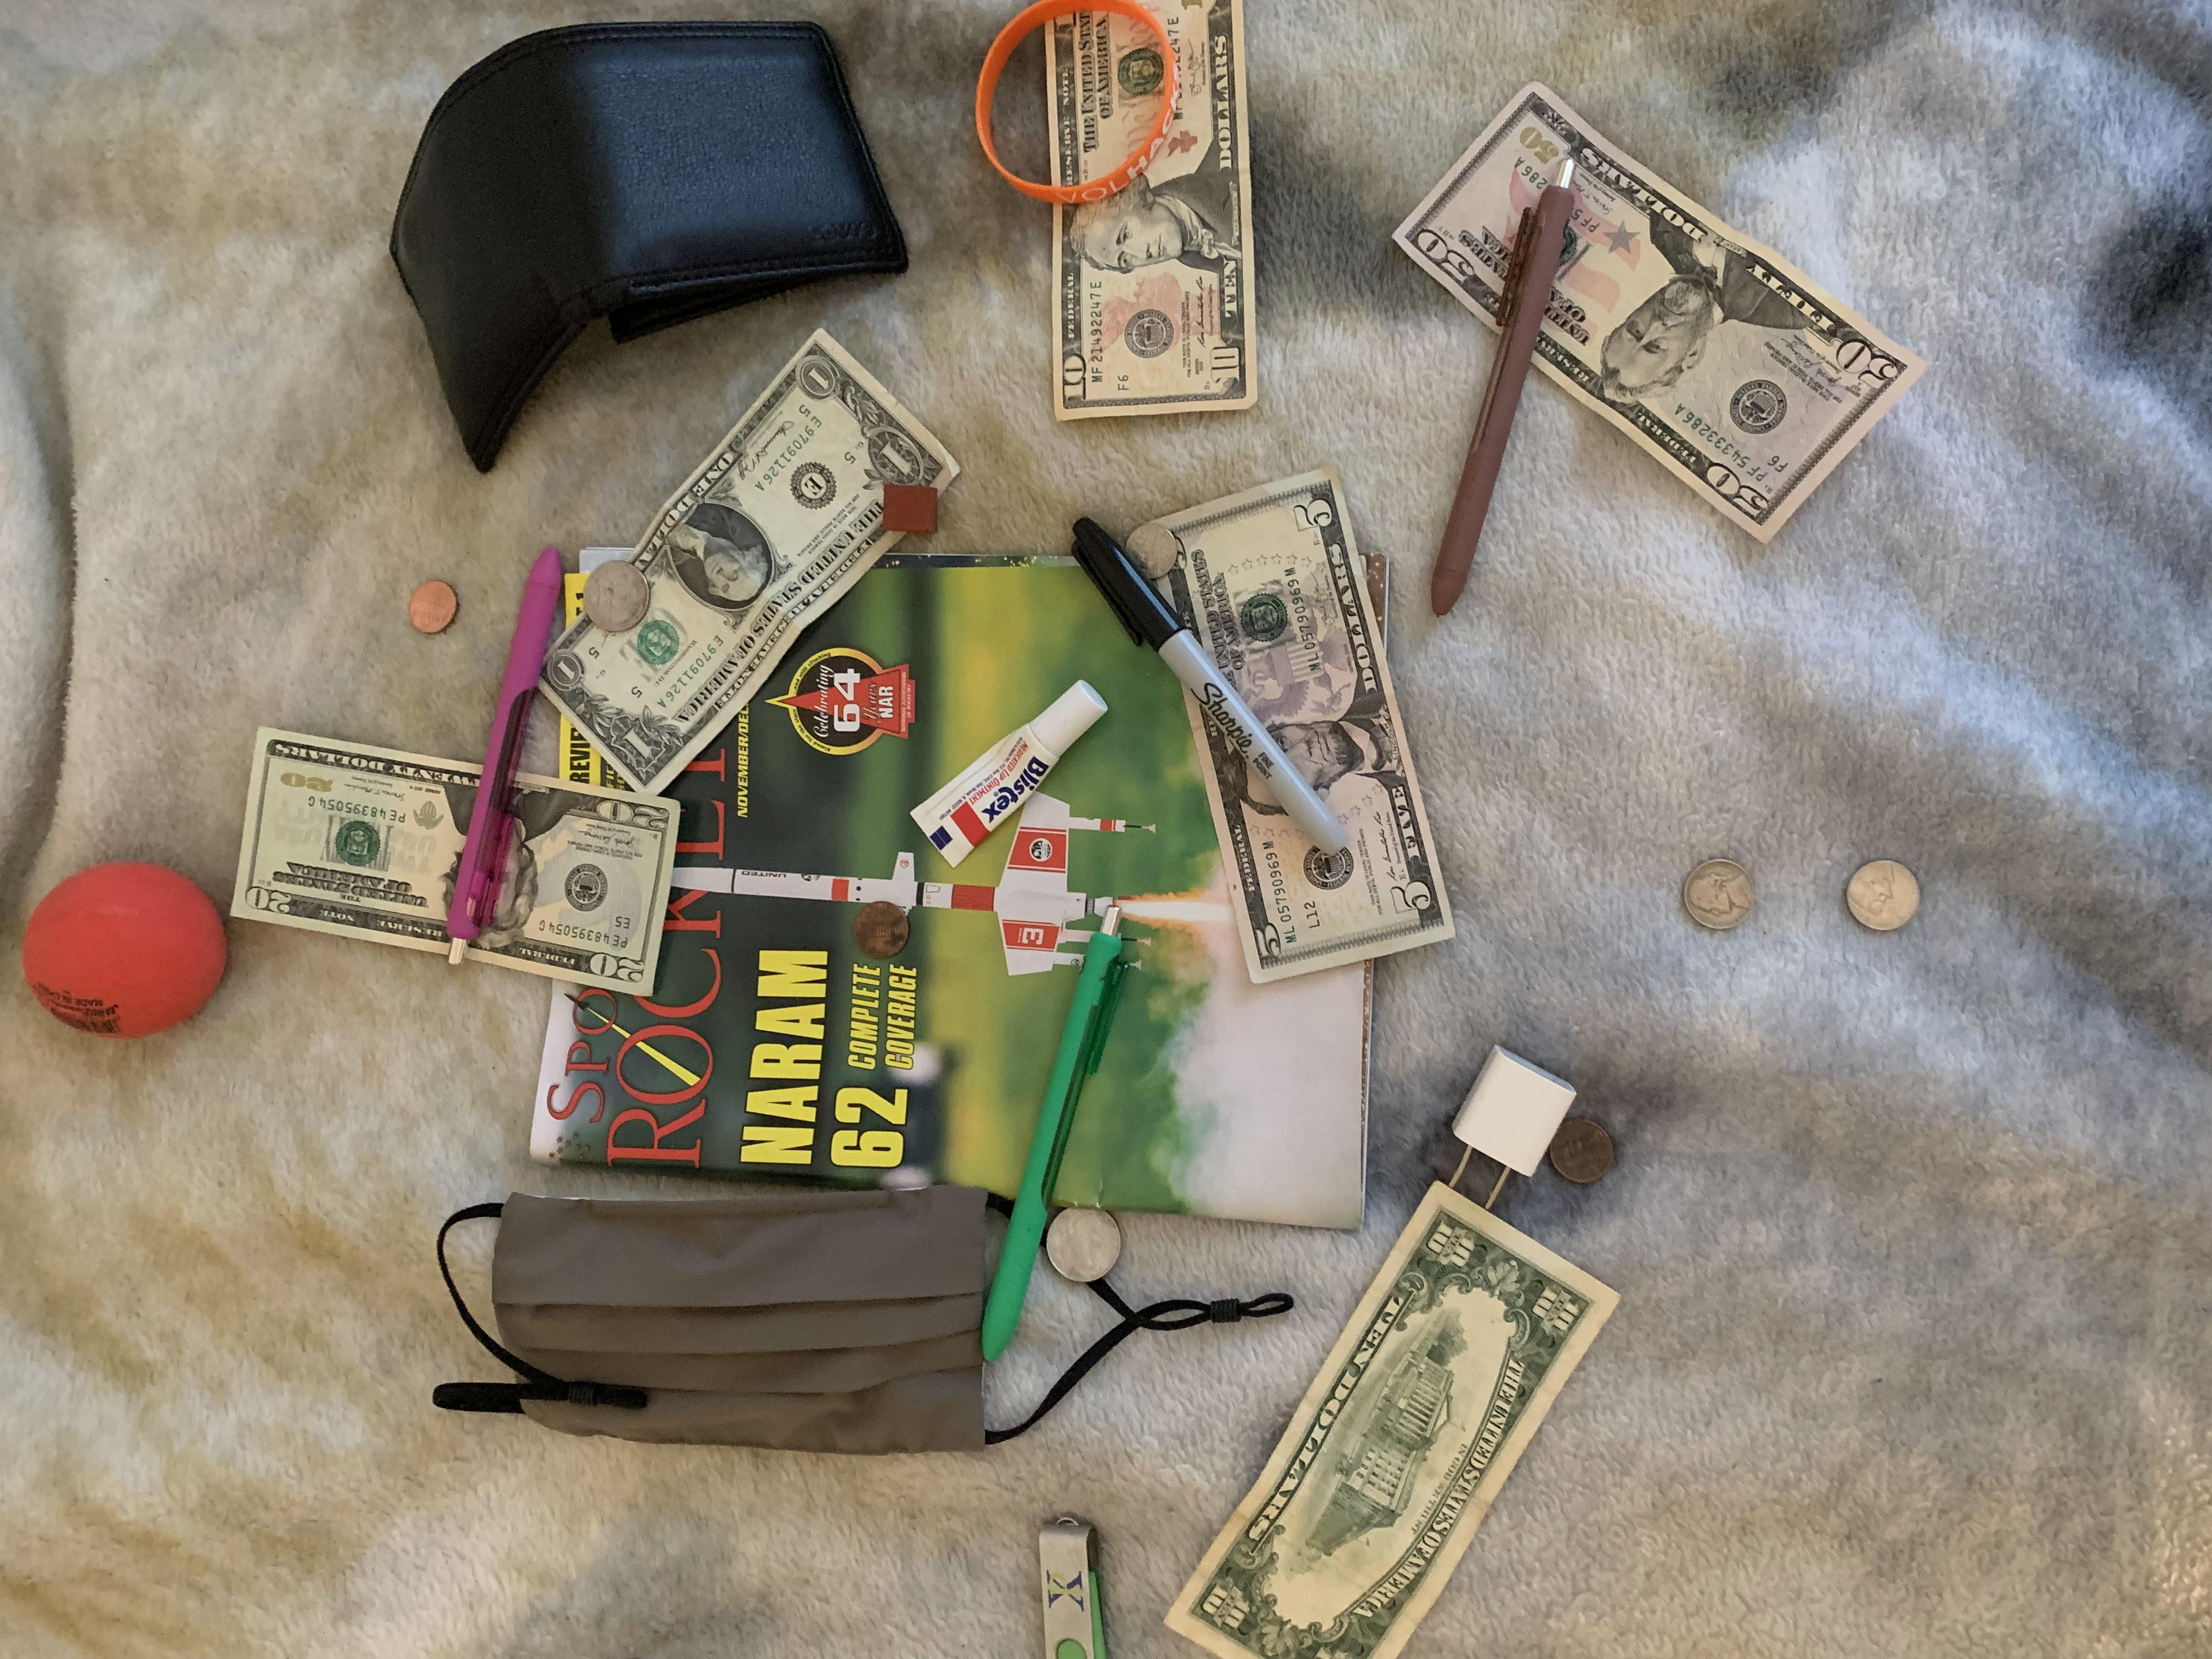Dime: (1122, 521, 1183, 580)
FiftyBill: (1393, 75, 1944, 547)
FiveBill: (1137, 464, 1467, 983)
Nickel: (1846, 854, 1923, 934), (1683, 857, 1757, 936)
OneBill: (538, 322, 960, 796)
Penny: (1547, 1112, 1618, 1187), (852, 894, 916, 962), (404, 573, 458, 634)
Quarter: (1045, 1202, 1125, 1281), (582, 556, 655, 634)
TenBill: (1165, 1182, 1625, 1657), (1043, 2, 1263, 418)
TwentyBill: (226, 725, 697, 992)
